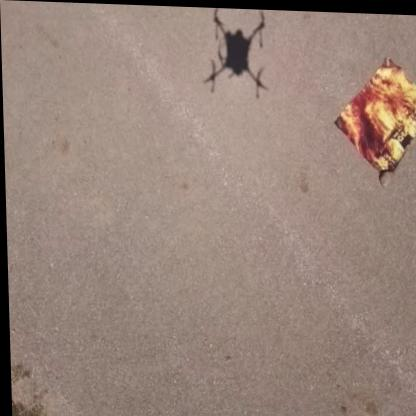fire-poster: (331, 51, 416, 182)
